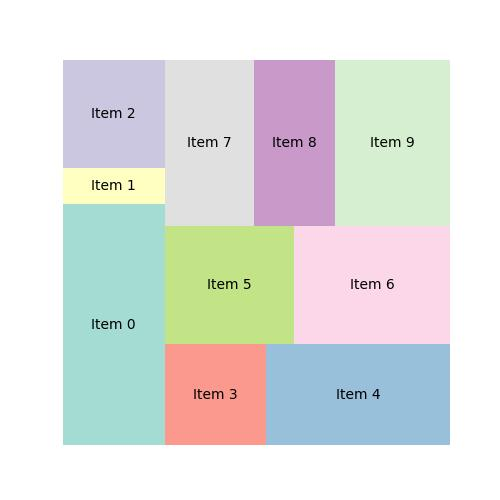rectangle: (63, 205, 166, 444), (336, 59, 450, 228), (292, 226, 450, 346), (265, 344, 450, 444), (165, 227, 292, 344), (166, 59, 254, 227), (253, 60, 335, 227), (64, 60, 166, 169), (165, 345, 265, 444), (64, 169, 166, 204)
